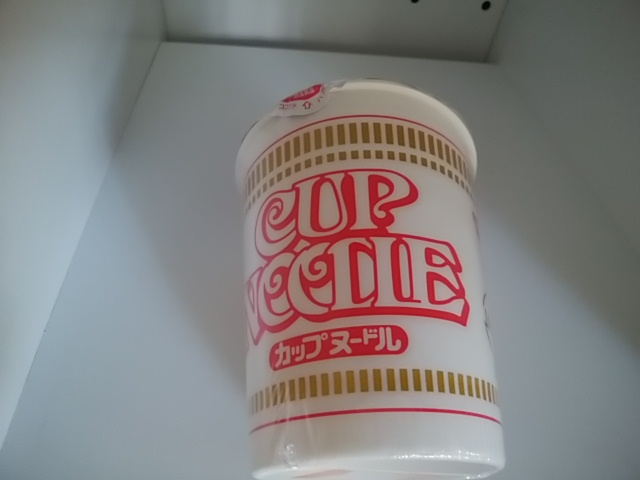cup-ramen: (229, 73, 506, 480)
